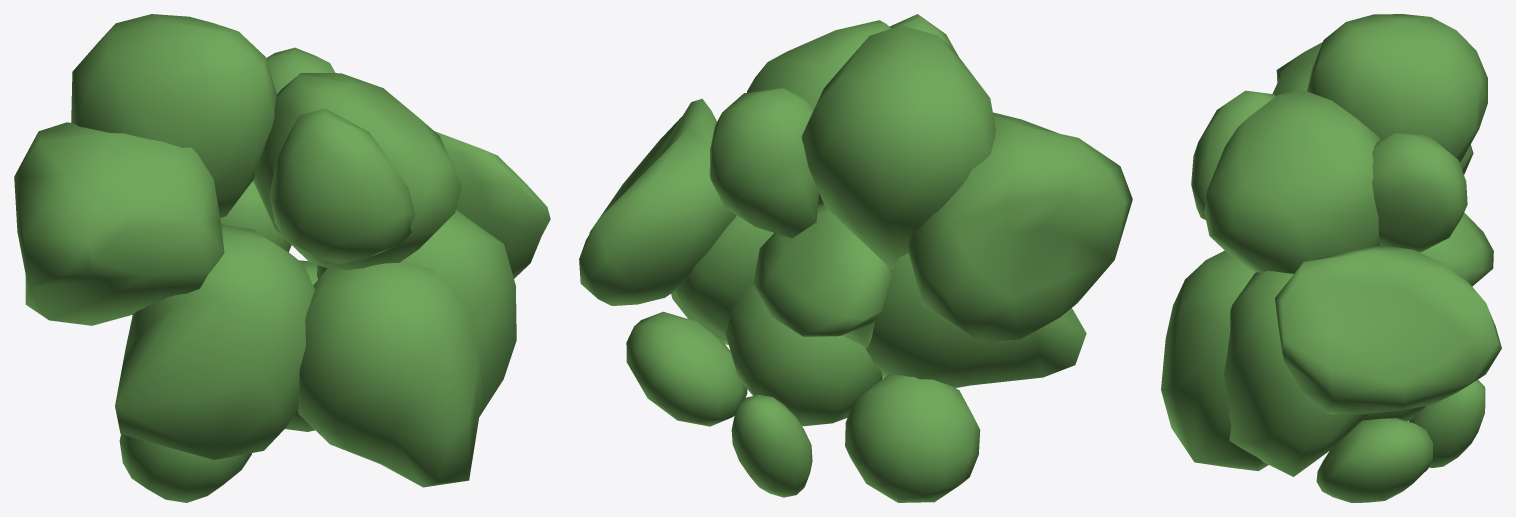
The model's file is Tree6k.fbx.
3 views of the same model, side by side, from view 1: azimuth 30°, elevation 25°; view 2: azimuth 150°, elevation 25°; view 3: azimuth 270°, elevation 25° (orthographic). The views are drawn at different scales.
Visible parts, largest first — view 1: LeavesSpawn; view 2: LeavesSpawn; view 3: LeavesSpawn.
Part boxes in pixels (left/top/right/bottom): LeavesSpawn: left=14, top=14, right=550, bottom=502; LeavesSpawn: left=579, top=14, right=1132, bottom=502; LeavesSpawn: left=1161, top=14, right=1501, bottom=502.
Size of what is drawn, in the model's own units: 422 by 365 by 278.
